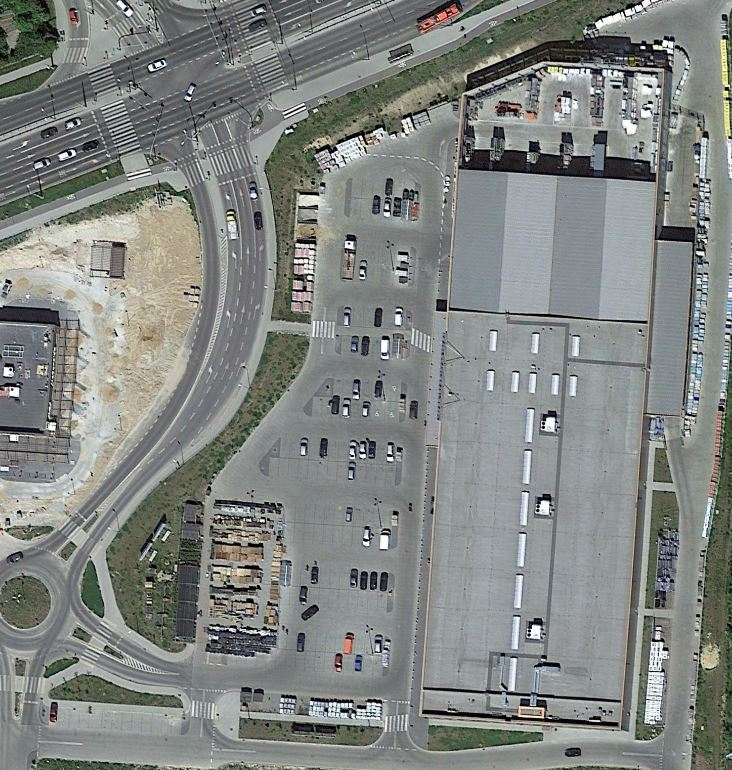shopping_center: (399, 35, 709, 740)
